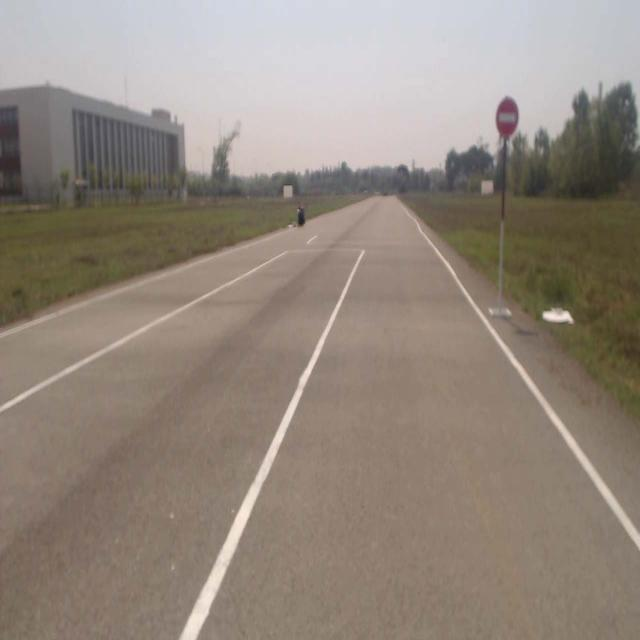girisyok: (496, 98, 518, 137)
